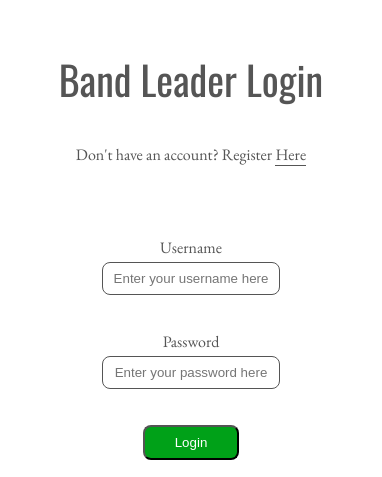
<BandleaderLoginPage/> › Successful Login redirects user to bandleader home
Type "testuser" into the field with test id "UsernameTextInput" at {"x": 191, "y": 278}, box [102,262,280,295]
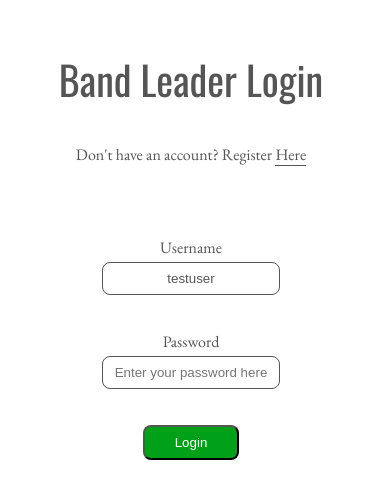
Type "testpassword" into the password field with test id "PasswordTextInput" at {"x": 191, "y": 372}, box [102,356,280,389]
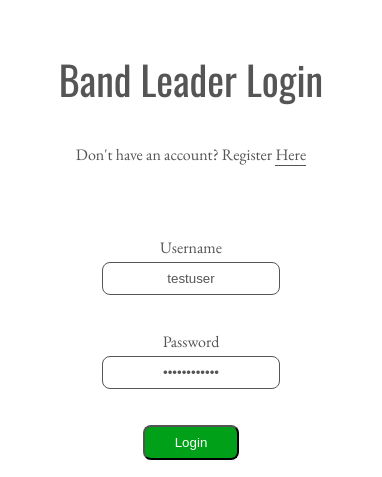
Click the button with test id "LoginButton" at {"x": 191, "y": 442}, box [143,425,239,460]
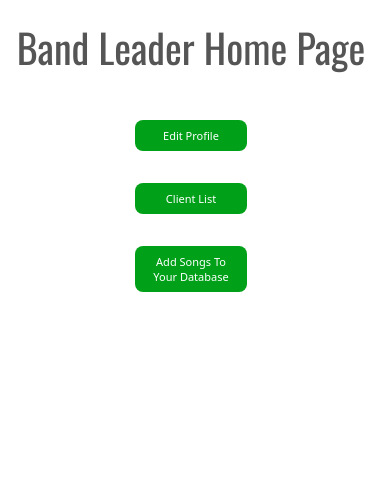
Expected: the heading "Band Leader Home Page" is shown, [17,17,365,77]
